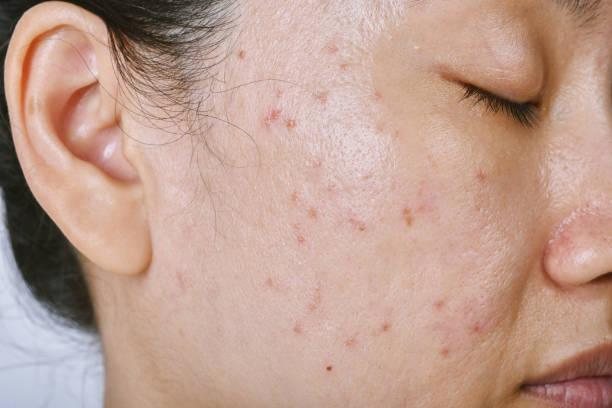Dry-Skin: (272, 103, 432, 250), (169, 131, 293, 319), (313, 294, 491, 408), (446, 137, 554, 288), (253, 41, 364, 81), (458, 150, 460, 286)
